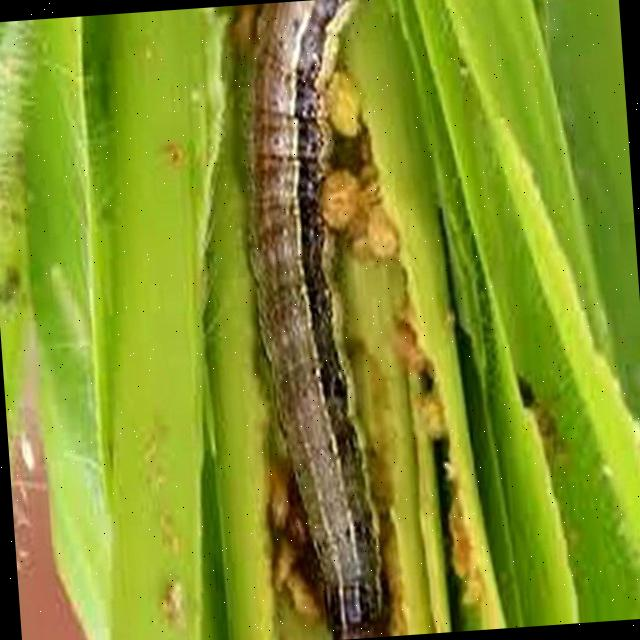worm: (227, 1, 408, 640)
